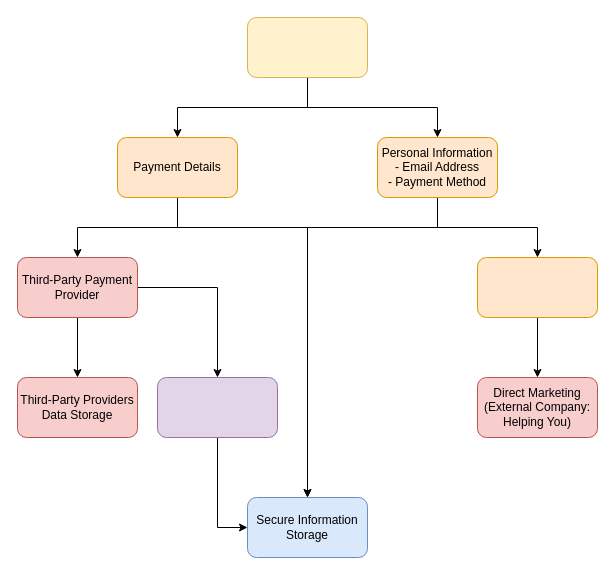
The diagram is 615 pixels wide and 575 high, and some of its shapes have lost their labels. Here are the shapes that lost their labels. From the top down, the centre of each, then its label:
At (307,47): "Customer".
At (537,287): "Opt-In".
At (217,407): "Payment Receipt".
